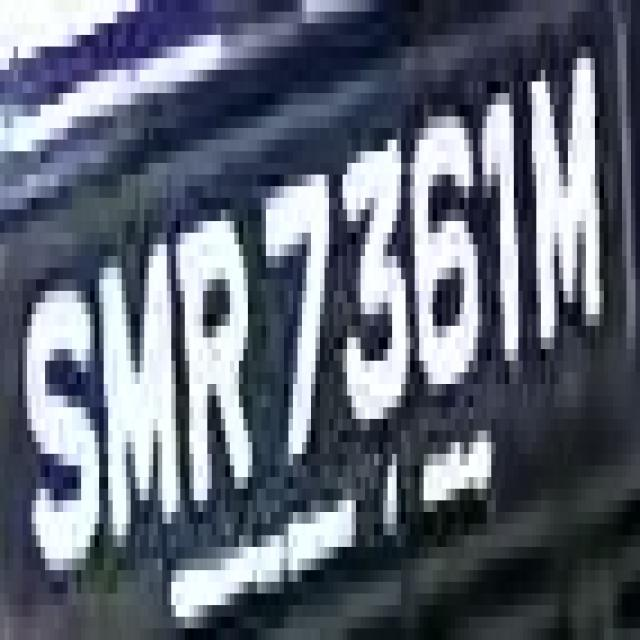1: (482, 93, 523, 384)
3: (320, 128, 419, 454)
6: (401, 81, 482, 419)
7: (239, 140, 338, 477)
M: (86, 198, 184, 570), (518, 23, 604, 349)
R: (162, 163, 248, 547)
S: (23, 267, 99, 594)
